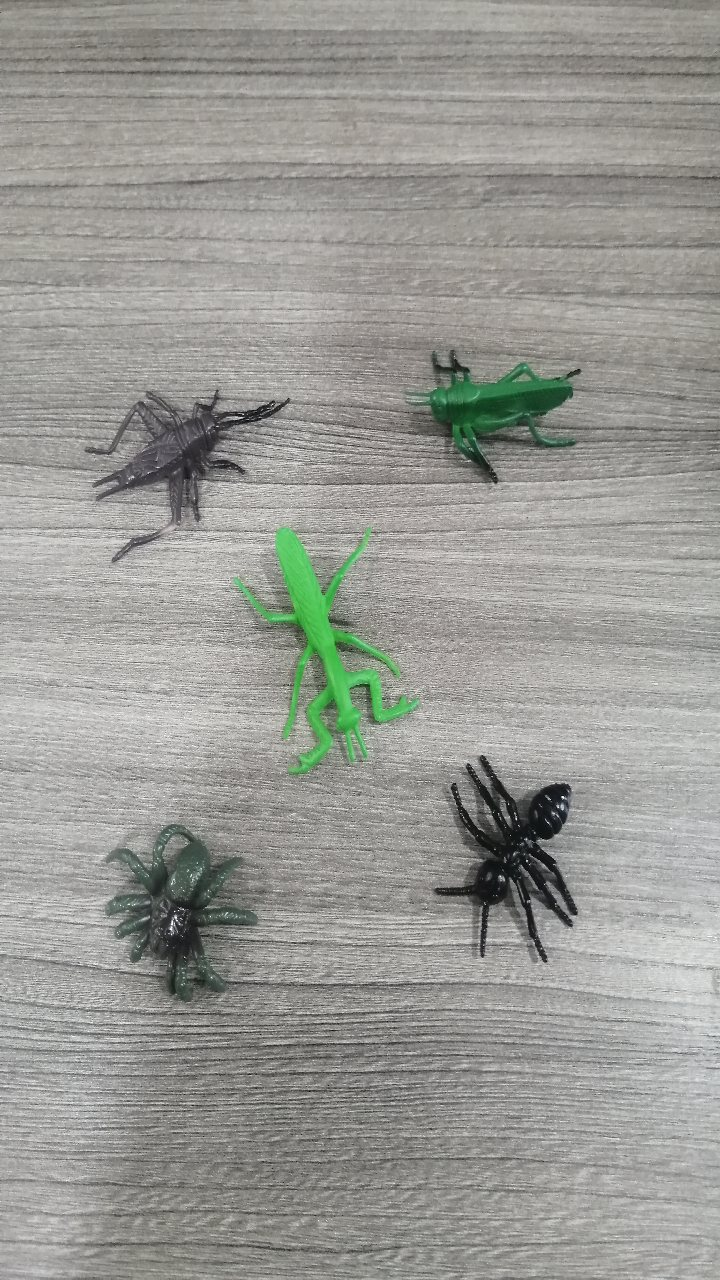intruso: (32, 309, 315, 551), (37, 772, 284, 1028), (238, 505, 437, 811), (417, 712, 628, 983), (360, 288, 595, 511)
